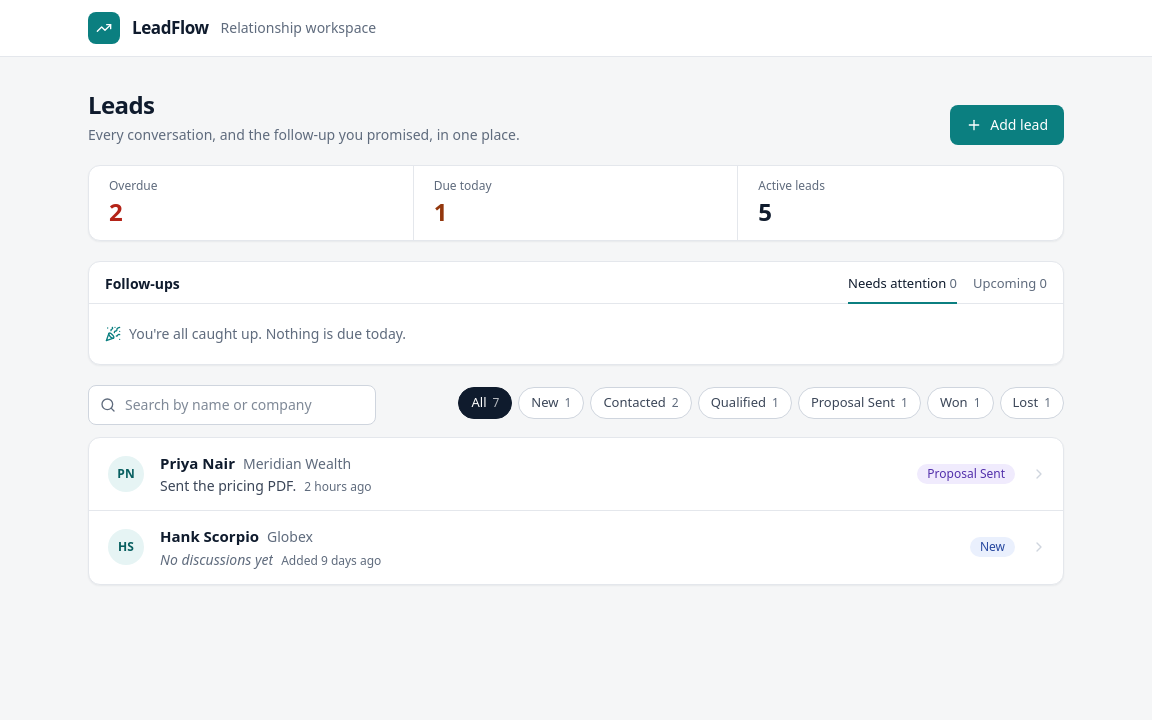
Test: lead timeline dialog › opens in a dialog without navigating, newest discussion first
This screenshot has width=1152, height=720.
Click the button with aria-label "Open Priya Nair": (126, 474) [89,438,1063,510]
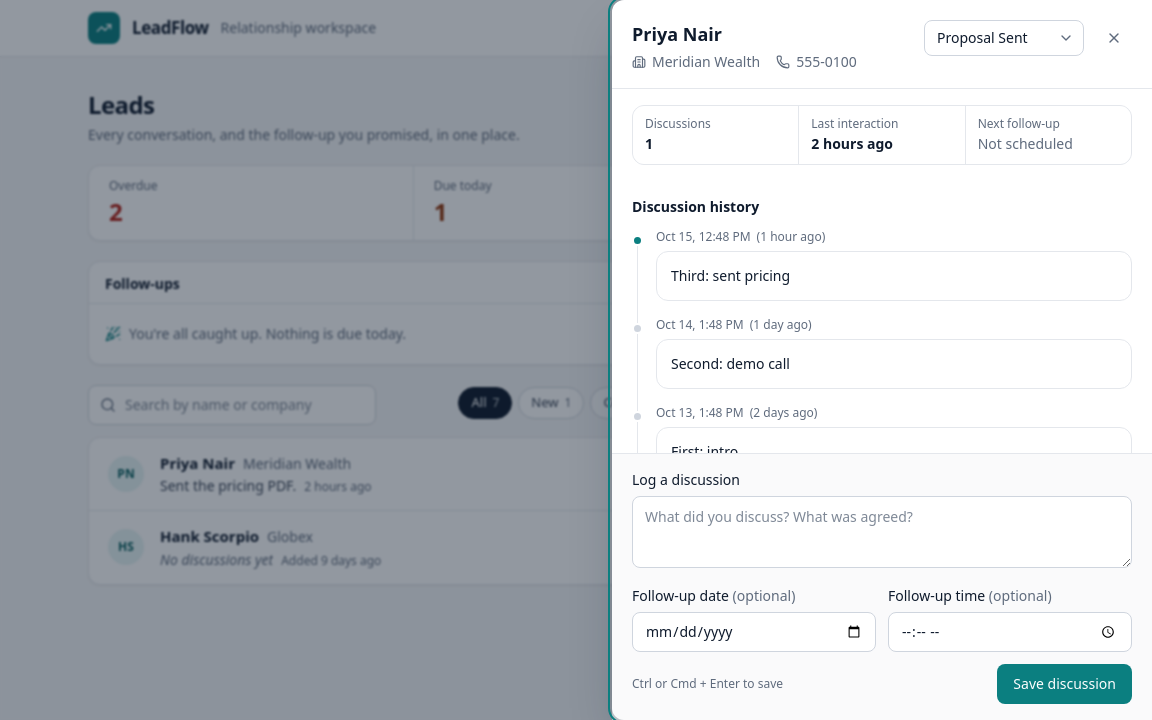
Result: the dropdown named "Lead status" shows "Proposal Sent" at [924,20,1084,56]
